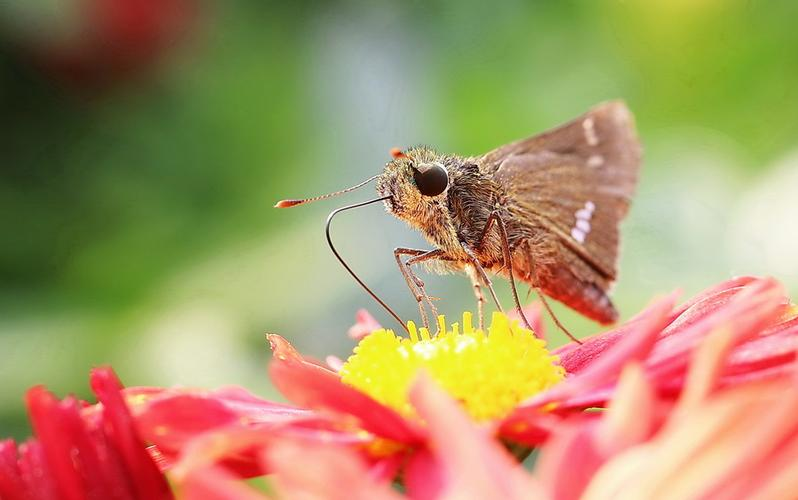Hesperiidae: (272, 98, 647, 340)
